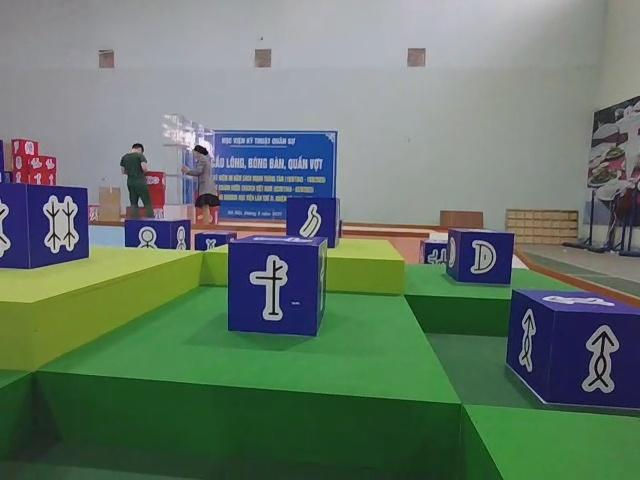R2 Real Blue: (505, 289, 637, 411), (227, 235, 328, 337), (1, 182, 88, 271), (447, 228, 515, 286), (287, 196, 341, 250), (124, 217, 191, 250)
